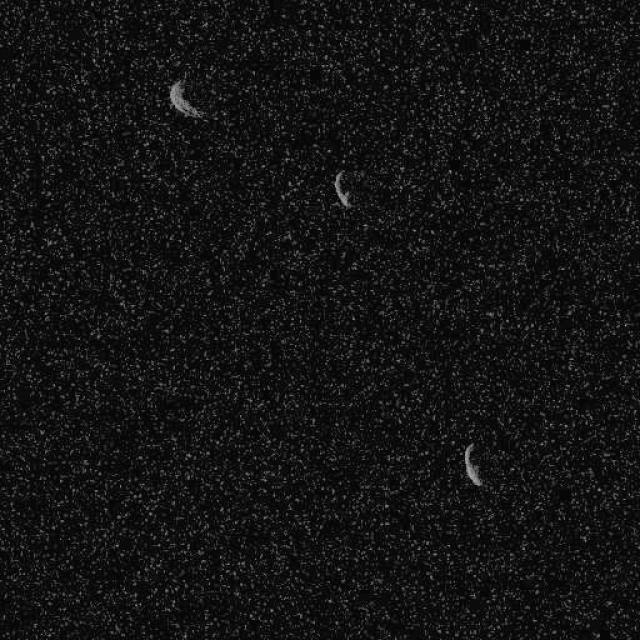D2: (168, 76, 204, 120), (462, 442, 483, 488), (332, 169, 352, 209)
